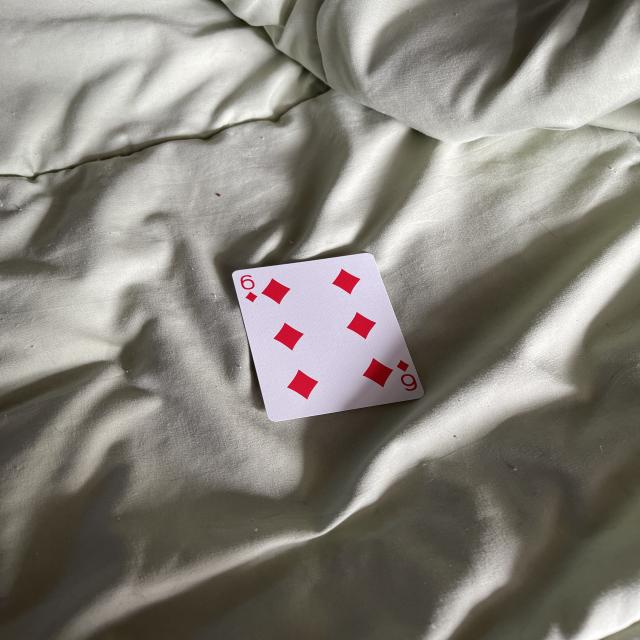6 of diamonds: (233, 254, 424, 421)
